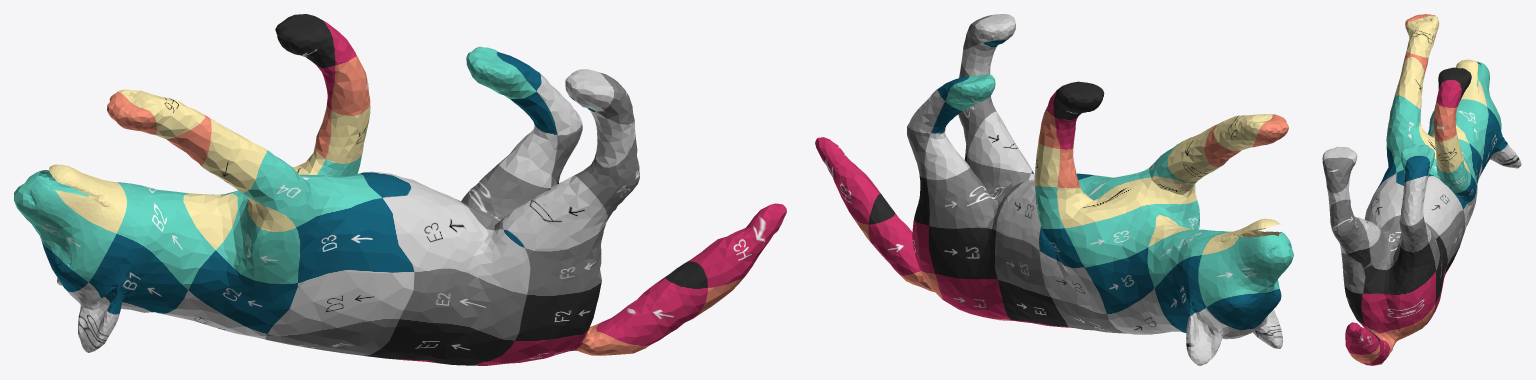
Rendered from dog_05-wolf_01.obj.
3 renders of one model, left to right at view 1: azimuth 30°, elevation 25°; view 2: azimuth 150°, elevation 25°; view 3: azimuth 270°, elevation 25°, orthographic. The views are drawn at different scales.
Visible parts, largest first — view 1: dog_05-wolf_01_export; view 2: dog_05-wolf_01_export; view 3: dog_05-wolf_01_export.
Part boxes in pixels (x1=…): dog_05-wolf_01_export: x1=14, y1=14, x2=786, y2=365; dog_05-wolf_01_export: x1=815, y1=14, x2=1293, y2=365; dog_05-wolf_01_export: x1=1322, y1=14, x2=1521, y2=365.
Bounding box in the file's own units: 1.14 × 0.5608 × 0.4731.
